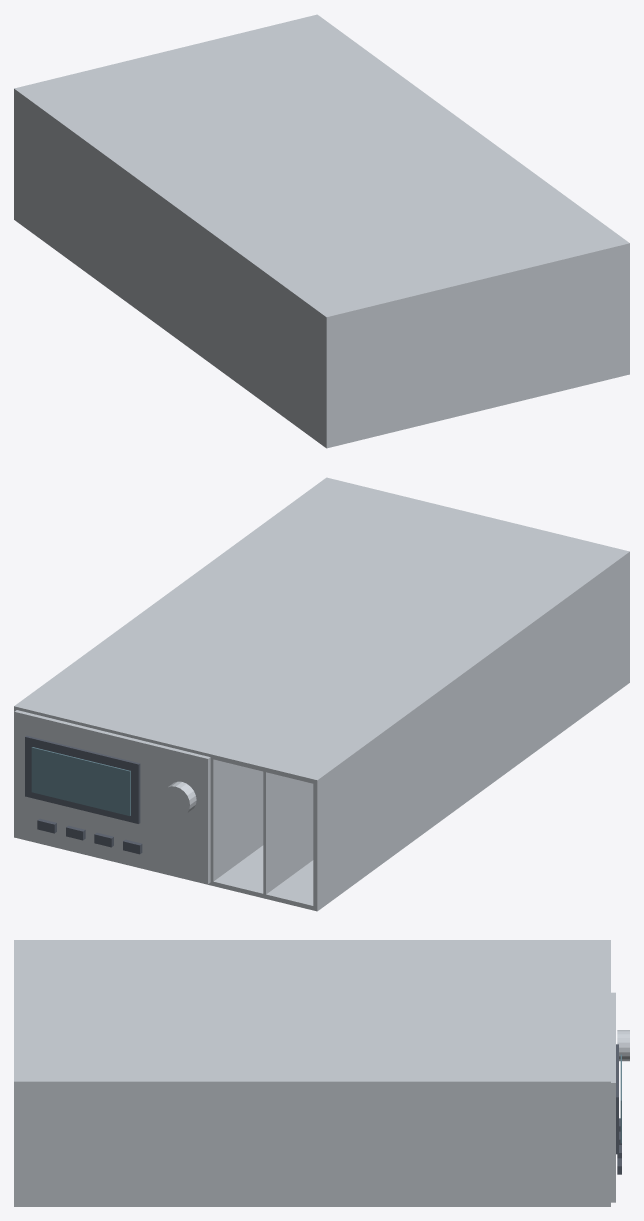
Rendered from wst-mainframe-manual.glb.
The picture shows the model from 3 angles, top to bottom: view 1: azimuth 30°, elevation 25°; view 2: azimuth 150°, elevation 25°; view 3: azimuth 270°, elevation 25°; orthographic projection. The views are drawn at different scales.
Visible parts, largest first — view 1: silver left electronics enclosure, silver right wall, silver removable top cover, silver rear wall, silver bottom plate; view 2: silver left electronics enclosure, silver right wall, silver removable top cover, silver left front panel, silver slot divider, screen glass, silver bottom plate, black display bezel, silver rotary control; view 3: silver left electronics enclosure, silver removable top cover, silver left front panel.
Part boxes in pixels (bbox=[...]): silver left electronics enclosure: bbox=[118, 14, 629, 422]; silver right wall: bbox=[14, 93, 330, 443]; silver removable top cover: bbox=[14, 63, 430, 321]; silver rear wall: bbox=[330, 296, 430, 442]; silver bottom plate: bbox=[14, 215, 430, 448]; silver left electronics enclosure: bbox=[14, 477, 525, 885]; silver right wall: bbox=[313, 556, 629, 906]; silver removable top cover: bbox=[213, 526, 629, 784]; silver left front panel: bbox=[14, 710, 210, 883]; silver slot divider: bbox=[263, 771, 313, 894]; screen glass: bbox=[31, 747, 130, 815]; silver bottom plate: bbox=[213, 678, 629, 911]; black display bezel: bbox=[25, 735, 140, 823]; silver rotary control: bbox=[161, 781, 196, 816]; silver left electronics enclosure: bbox=[14, 988, 610, 1206]; silver removable top cover: bbox=[14, 940, 610, 988]; silver left front panel: bbox=[611, 992, 615, 1202].
Size of the model in its own units: 0.213 by 0.096 by 0.392.
